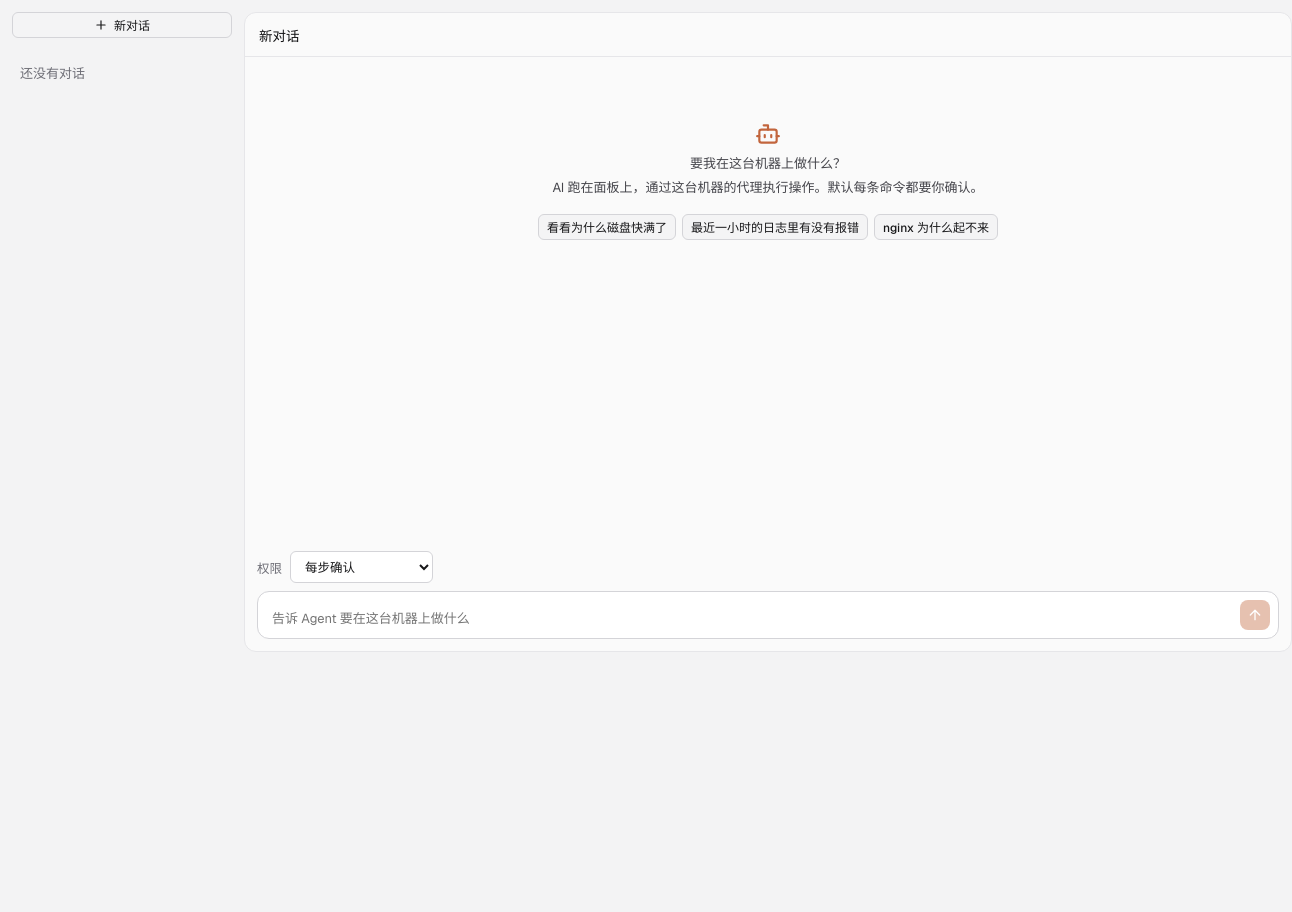
Test: host Agent tab › creates a conversation with the chosen permission, then sends
This screenshot has width=1292, height=912.
Expected: the text "要我在这台机器上做什么？" is shown, left=690, top=153, right=846, bottom=172
Step 1. Select "全部自动执行" in the dropdown labelled "权限" → (362, 567), box left=290, top=551, right=433, bottom=583
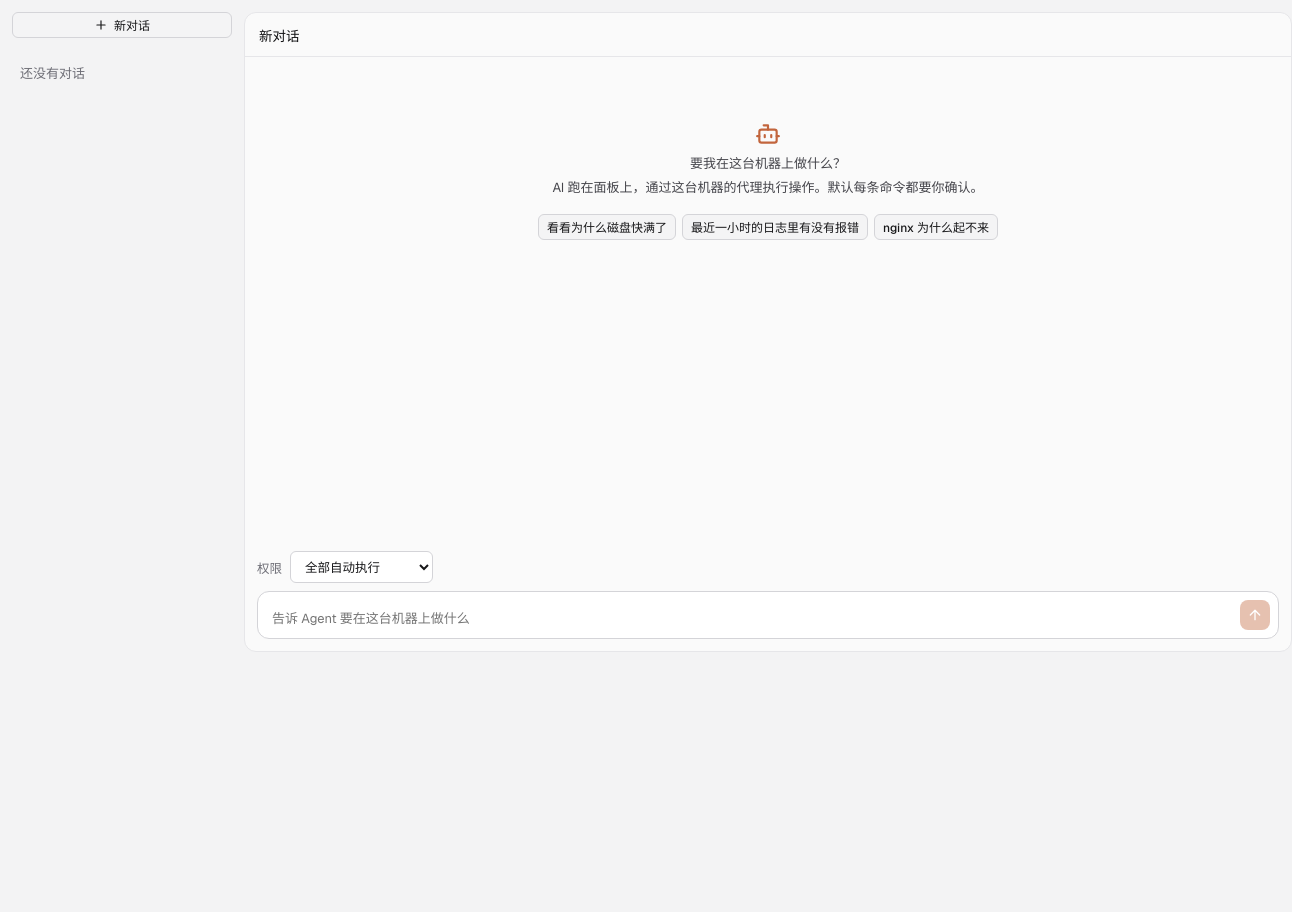
Step 2. Click the button "看看为什么磁盘快满了" → (607, 227), box left=538, top=214, right=676, bottom=240
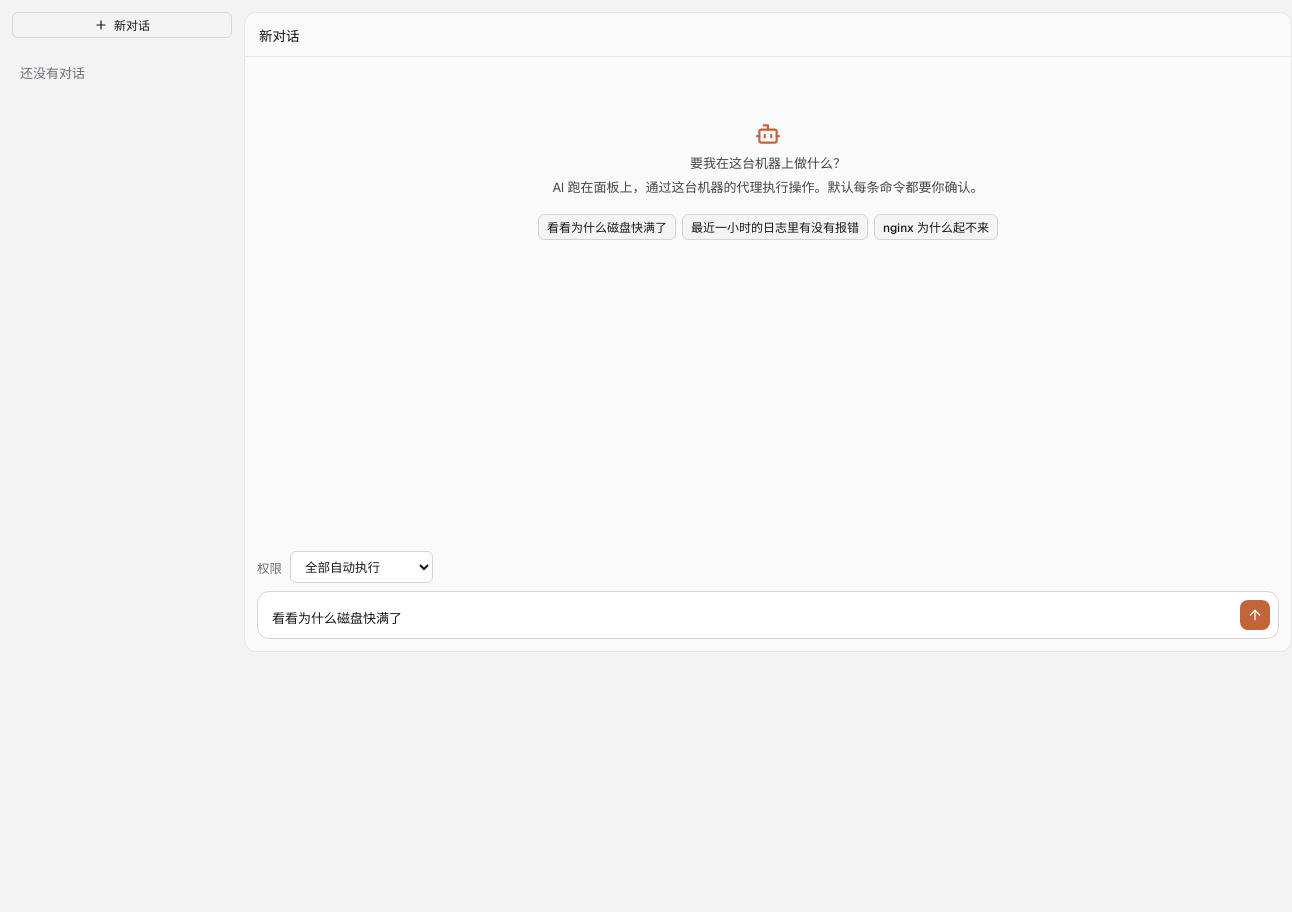
Step 3. Click the button named "发送" → (1255, 615), box left=1240, top=600, right=1270, bottom=630
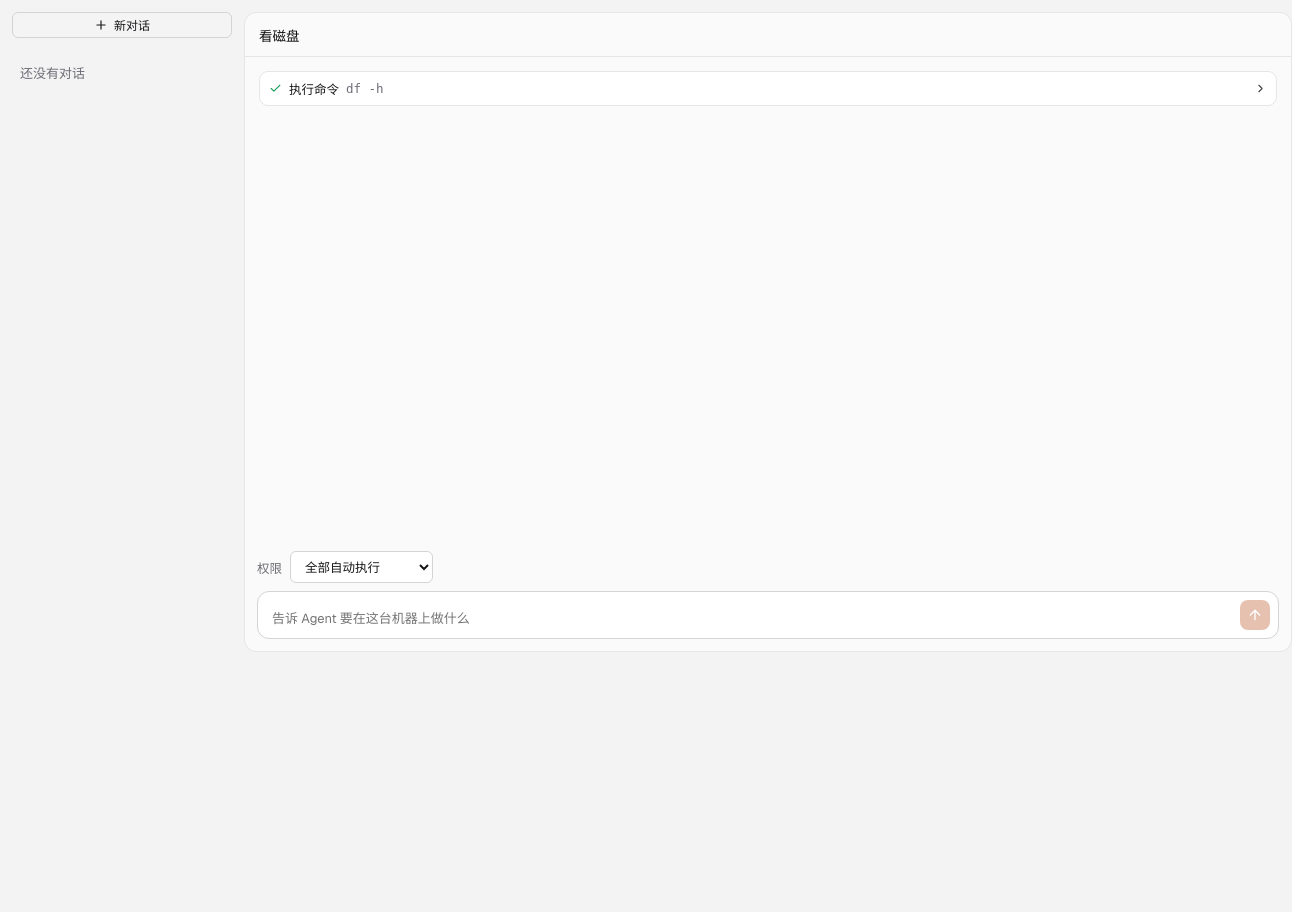
Result: the text "df -h" is shown at left=346, top=81, right=384, bottom=96
